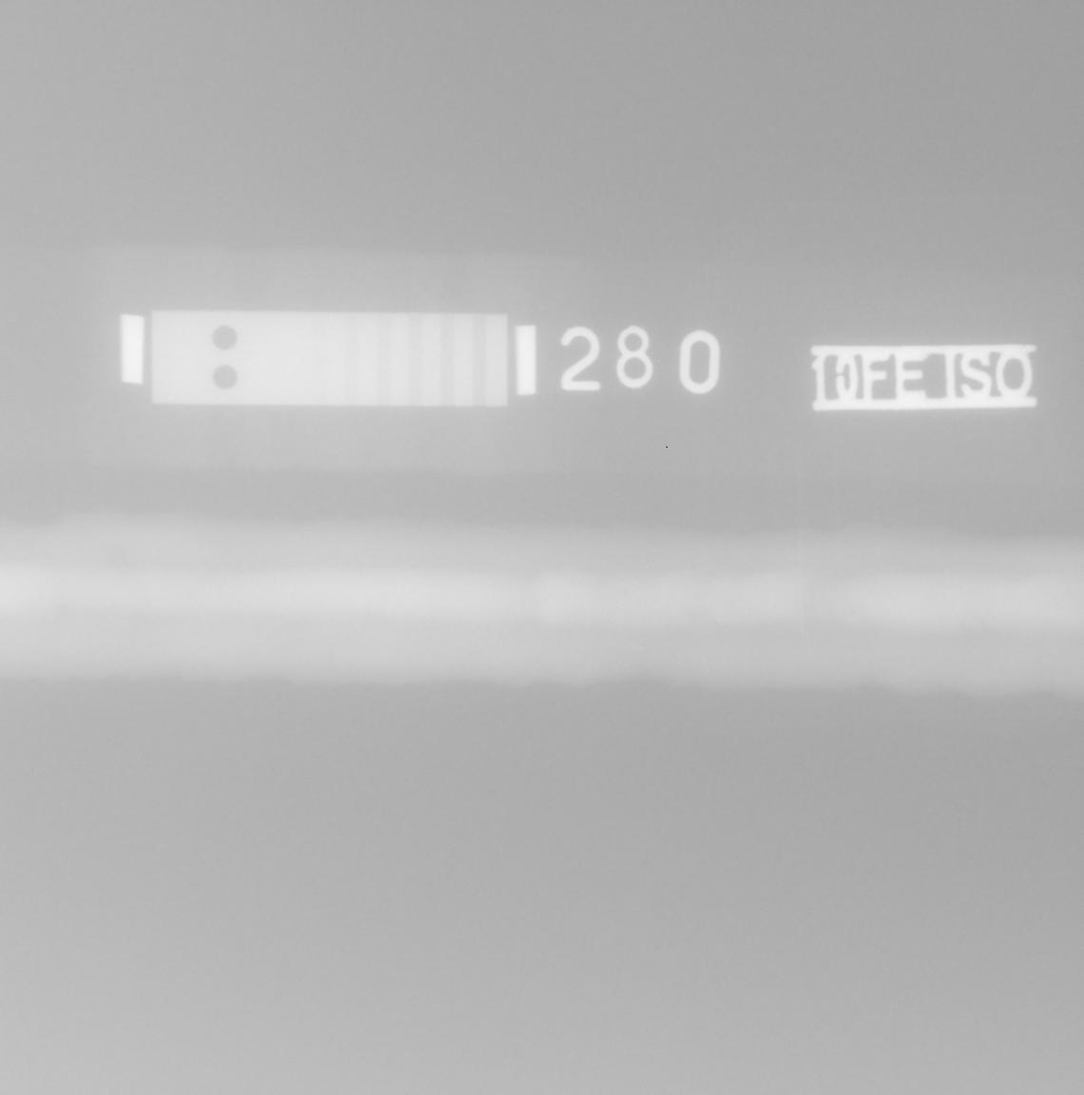Reference Standard 2: (151, 311, 508, 407)
